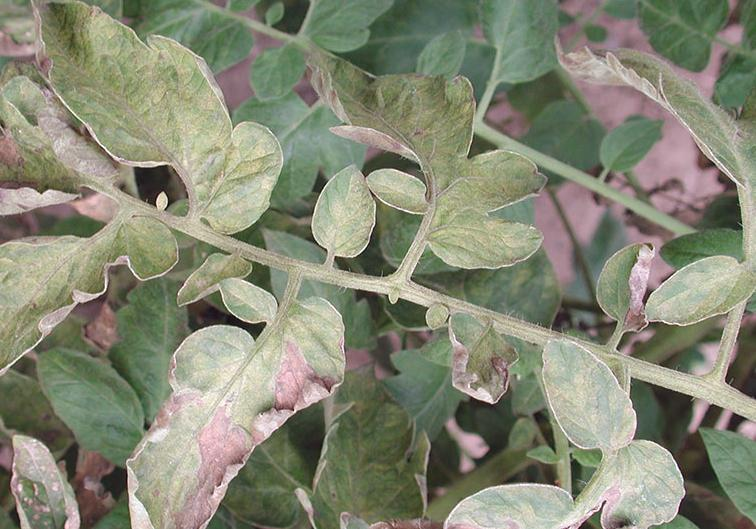Tomato mold leaf: (28, 0, 286, 242), (121, 294, 351, 529), (0, 213, 183, 402), (367, 449, 696, 529), (530, 329, 646, 453), (641, 246, 756, 325), (308, 163, 390, 263), (441, 307, 519, 407), (361, 164, 447, 218)
